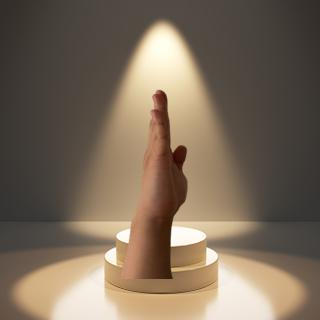RIGHT: (123, 81, 202, 228)
